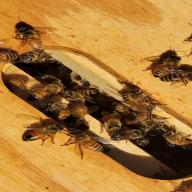Bee: (113, 78, 175, 112), (148, 48, 192, 86), (66, 128, 111, 158), (20, 117, 61, 148), (12, 21, 52, 51), (64, 74, 106, 95), (4, 69, 37, 91), (0, 48, 29, 64)
